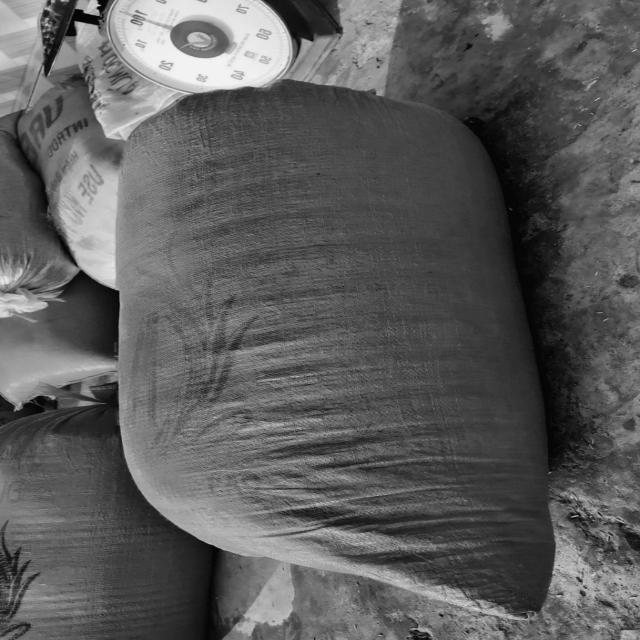gunny_bag: (118, 80, 555, 618)
